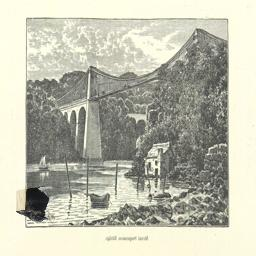Crow: (16, 186, 50, 222)
